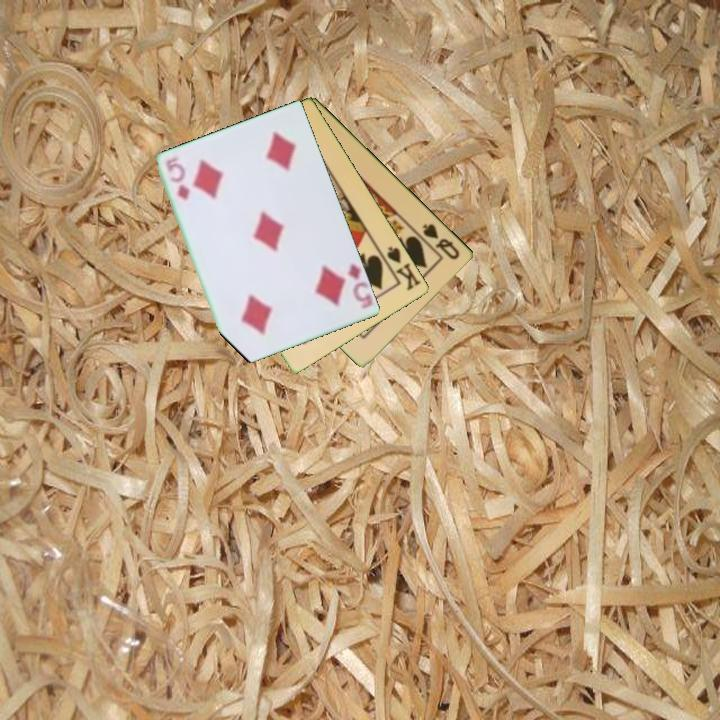5d: (162, 155, 192, 203), (345, 259, 373, 310)
Ks: (384, 243, 424, 294)
Qs: (419, 220, 463, 262)
